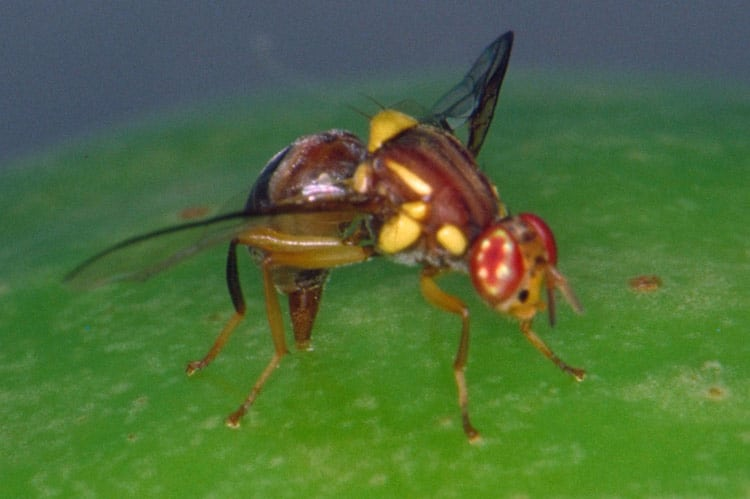Fruit fly: (164, 58, 599, 442)
